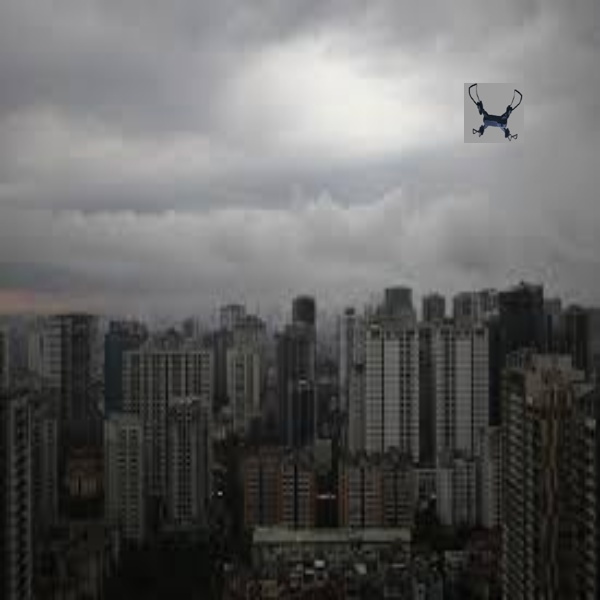drone: (464, 84, 525, 141)
